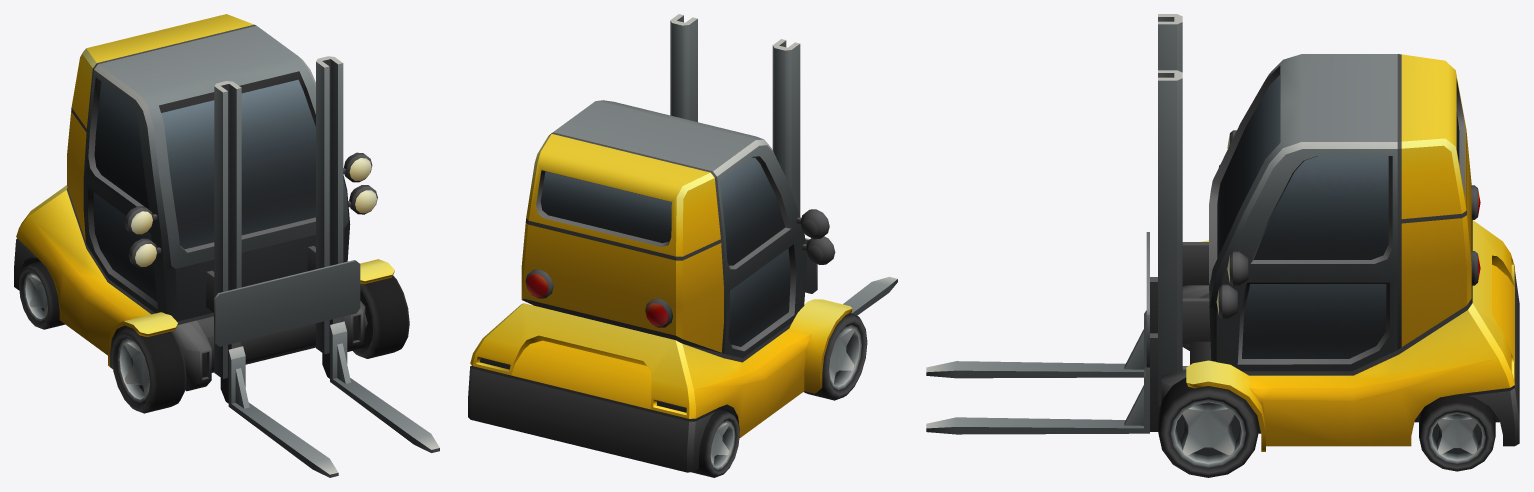
Rendered from Forklift_1A.fbx.
3 renders of one model, left to right at view 1: azimuth 30°, elevation 25°; view 2: azimuth 150°, elevation 25°; view 3: azimuth 270°, elevation 25°, orthographic. The views are drawn at different scales.
Parts seen in each view (by area): view 1: Forklift_1A, Forklift_1A_Forks, Forklift_1A_Wheel_F.R, Forklift_1A_Wheel_F.L, Forklift_1A_Wheel_R.R; view 2: Forklift_1A, Forklift_1A_Wheel_F.R, Forklift_1A_Wheel_R.R, Forklift_1A_Forks; view 3: Forklift_1A, Forklift_1A_Forks, Forklift_1A_Wheel_F.L, Forklift_1A_Wheel_R.L.
Boxes of the visible parts, x1,y1,x2,y2 form: Forklift_1A: (14,14,394,391); Forklift_1A_Forks: (214,260,439,477); Forklift_1A_Wheel_F.R: (111,327,186,413); Forklift_1A_Wheel_F.L: (353,275,409,358); Forklift_1A_Wheel_R.R: (19,261,64,329); Forklift_1A: (468,14,852,472); Forklift_1A_Wheel_F.R: (804,313,867,400); Forklift_1A_Wheel_R.R: (692,408,739,477); Forklift_1A_Forks: (805,238,897,315); Forklift_1A: (1158,14,1519,451); Forklift_1A_Forks: (926,232,1160,434); Forklift_1A_Wheel_F.L: (1158,377,1258,477); Forklift_1A_Wheel_R.L: (1419,393,1495,471).
Bounding box in the file's own units: 2.13 × 2.5 × 3.72.
